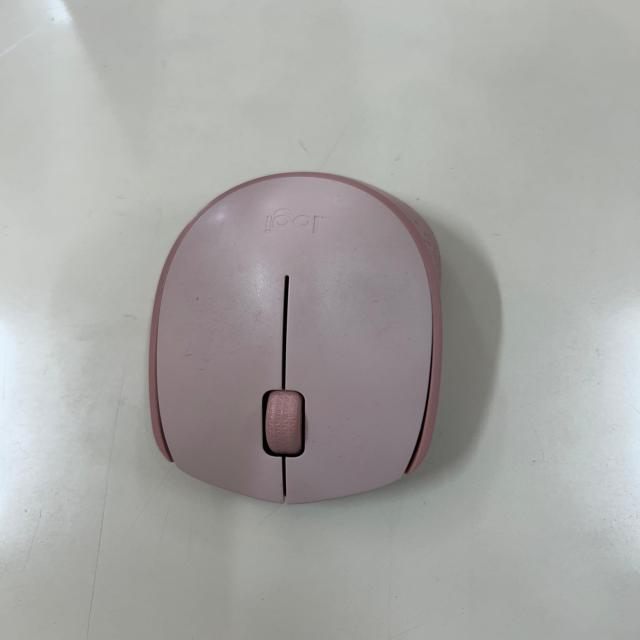inorganic: (144, 171, 444, 505)
